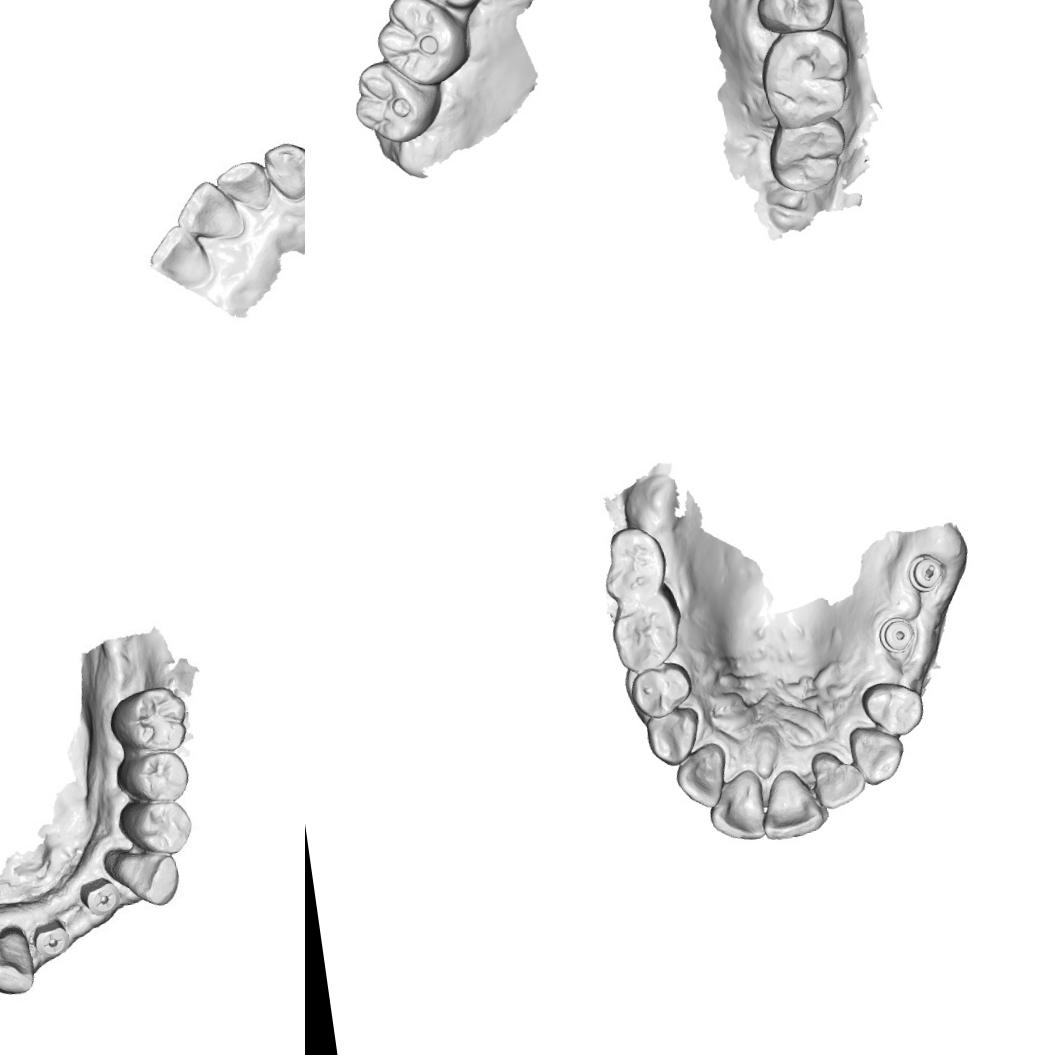canine: (105, 840, 186, 912), (846, 720, 908, 788), (643, 705, 705, 770), (262, 136, 305, 208), (0, 925, 40, 999)
implant: (876, 613, 917, 657)
implant_minus: (904, 550, 950, 596)
implant_plus: (35, 920, 78, 962), (80, 877, 122, 917)
incisor: (754, 766, 825, 842), (704, 768, 770, 846), (175, 176, 246, 244), (670, 740, 734, 812), (808, 746, 870, 812), (147, 220, 208, 286), (212, 158, 269, 214)
molar: (753, 24, 856, 132), (348, 53, 446, 150), (373, 0, 476, 91), (763, 116, 854, 200), (102, 681, 193, 760), (606, 594, 689, 676), (594, 520, 673, 606)
premolar: (118, 796, 196, 862), (118, 746, 196, 808), (857, 676, 929, 741), (627, 659, 696, 722), (750, 0, 837, 41), (408, 0, 488, 15)
